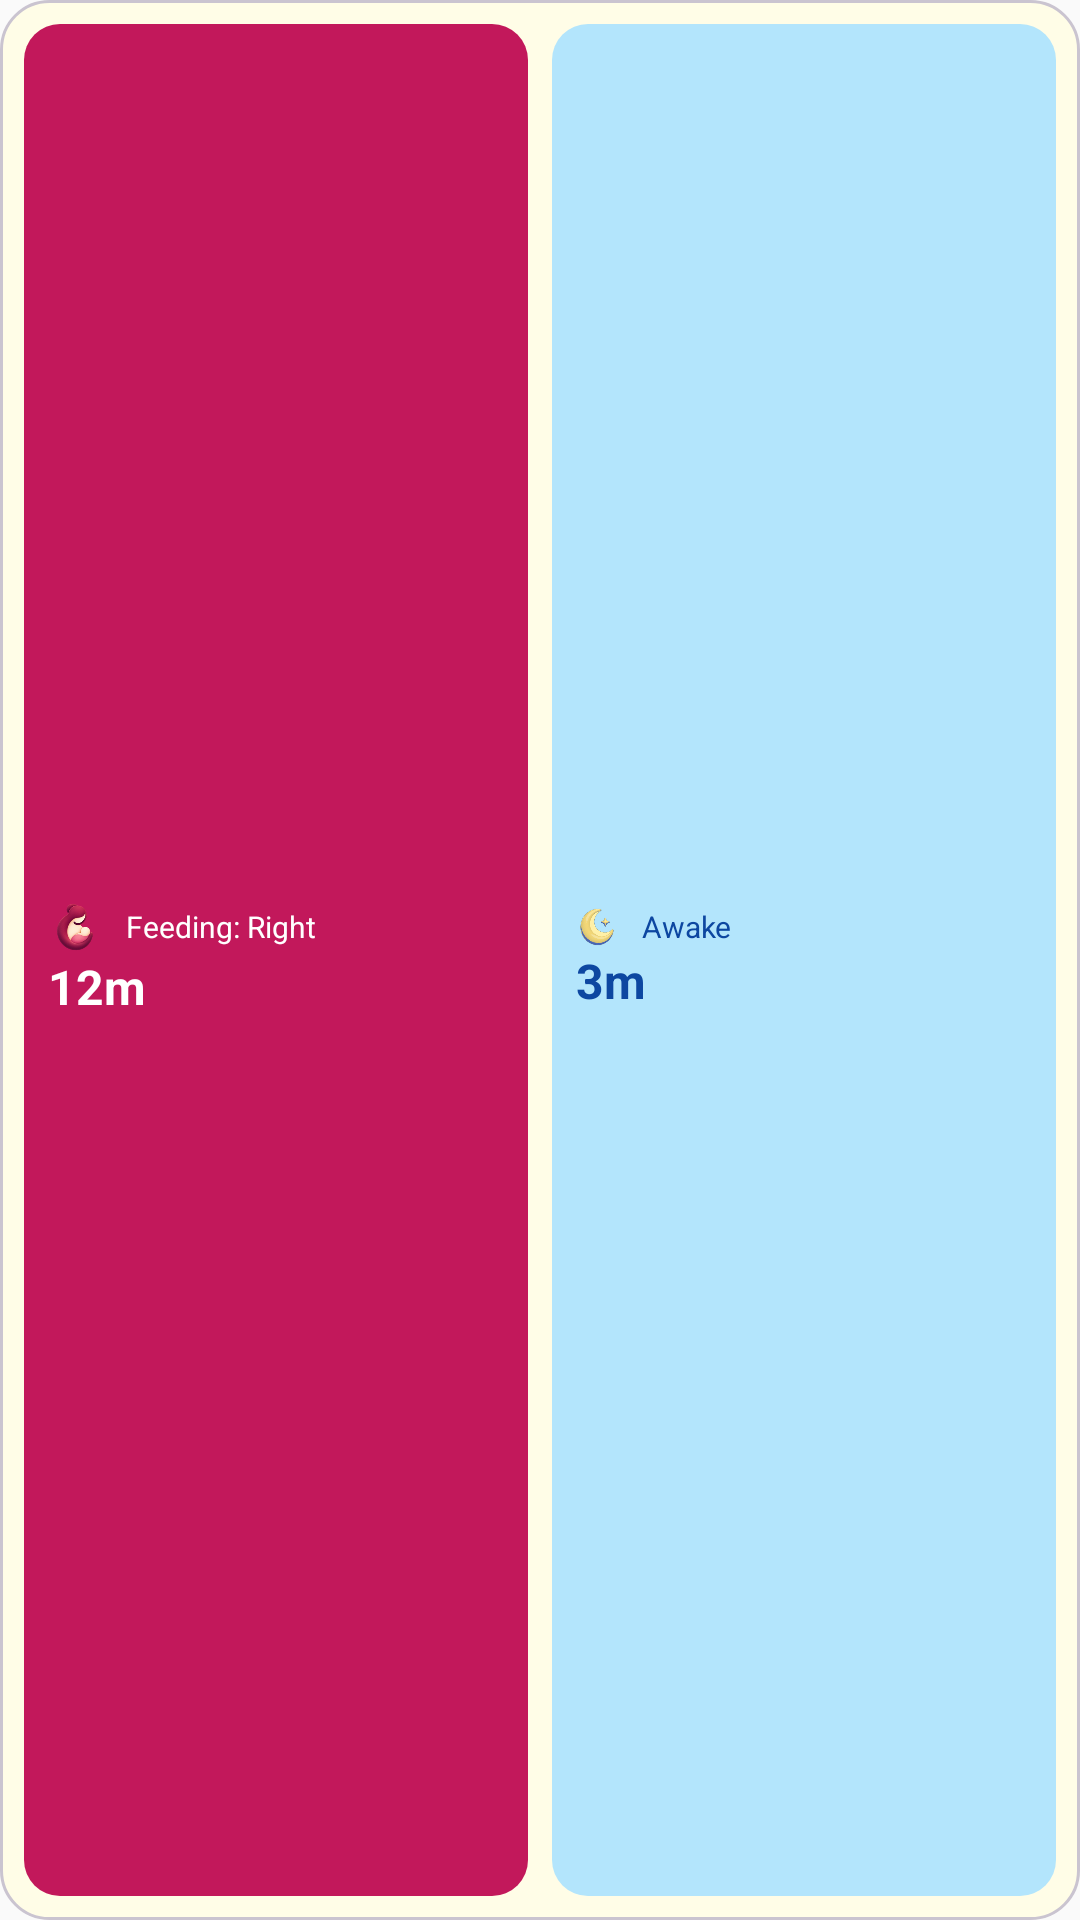

Where to tap for icons on this 1080x1920 app screen, as point (x, y):
breastfeeding section: point (75, 927)
sleep section: point (597, 927)
